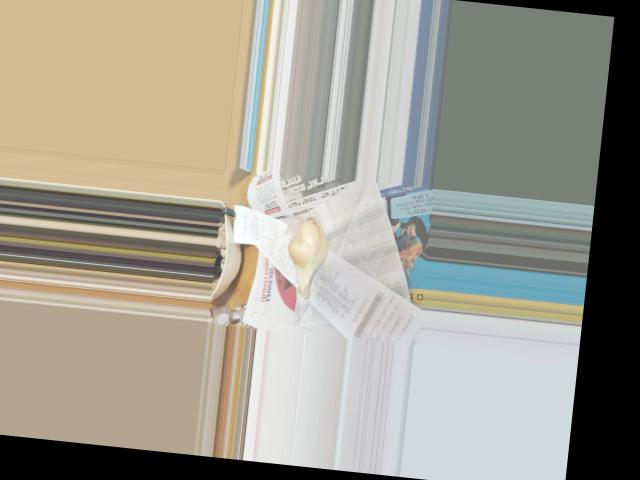onion: (284, 218, 328, 289)
